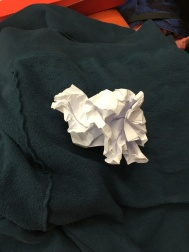paper_white: (48, 74, 162, 179)
